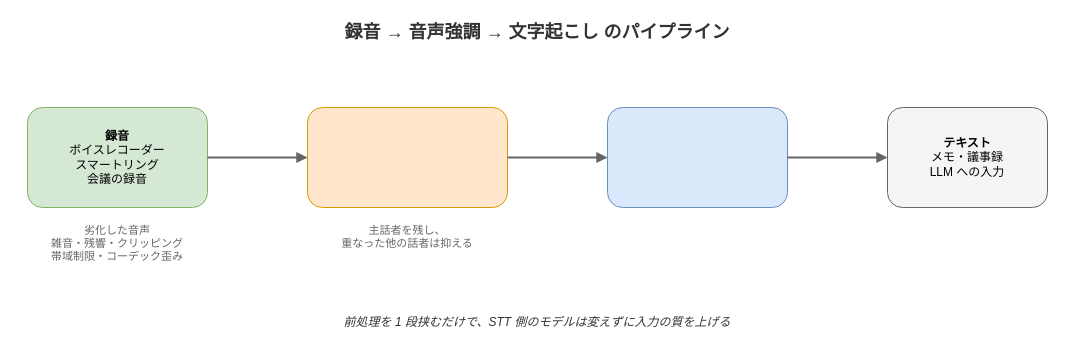
Image size: 1065x354. Some labels were removed from this diagram. Each missing label, with the box of its shape:
RE-USE 音声強調（USE） 9.6M パラメータ 8〜48kHz mono wav: (306, 106, 508, 208)
STT 音声認識 （Whisper など）: (606, 106, 788, 208)
